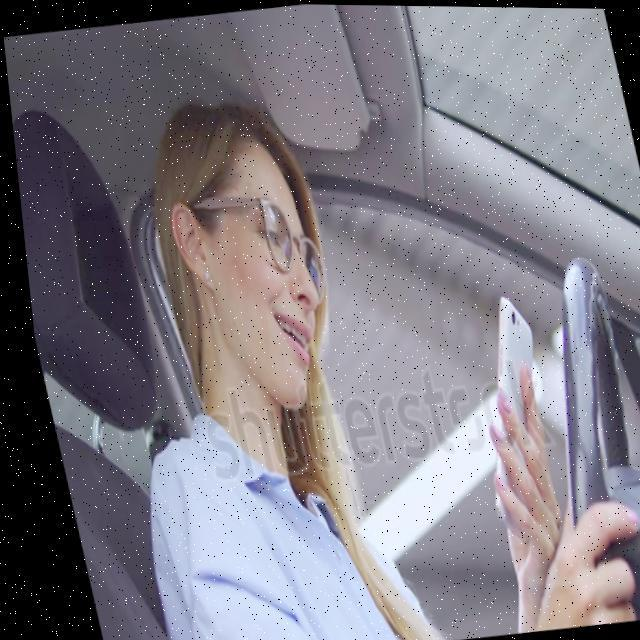PhoneCall: (446, 288, 564, 536)
